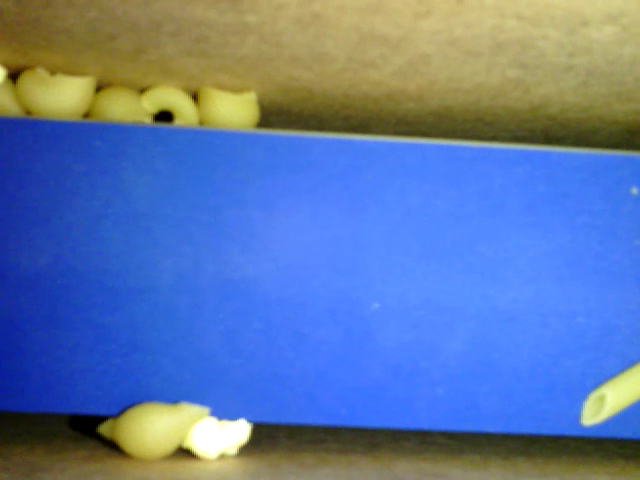elbow: (144, 85, 202, 123)
penne: (580, 357, 639, 428)
shell: (97, 399, 210, 460), (14, 66, 97, 123), (197, 80, 263, 130), (87, 85, 152, 123)
